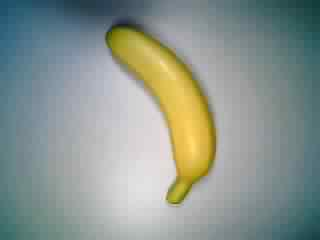banana: (102, 23, 219, 207)
